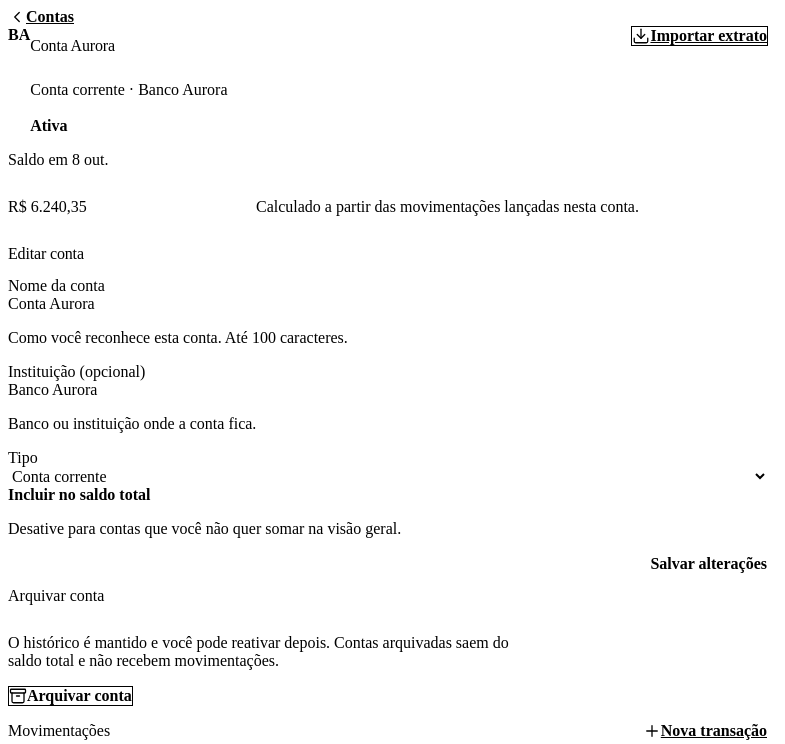
/accounts/{id} — detalhe e edição › arquiva a conta (reversível, histórico mantido)
Click the button "Arquivar conta" at (70,696), box [8,686,133,706]
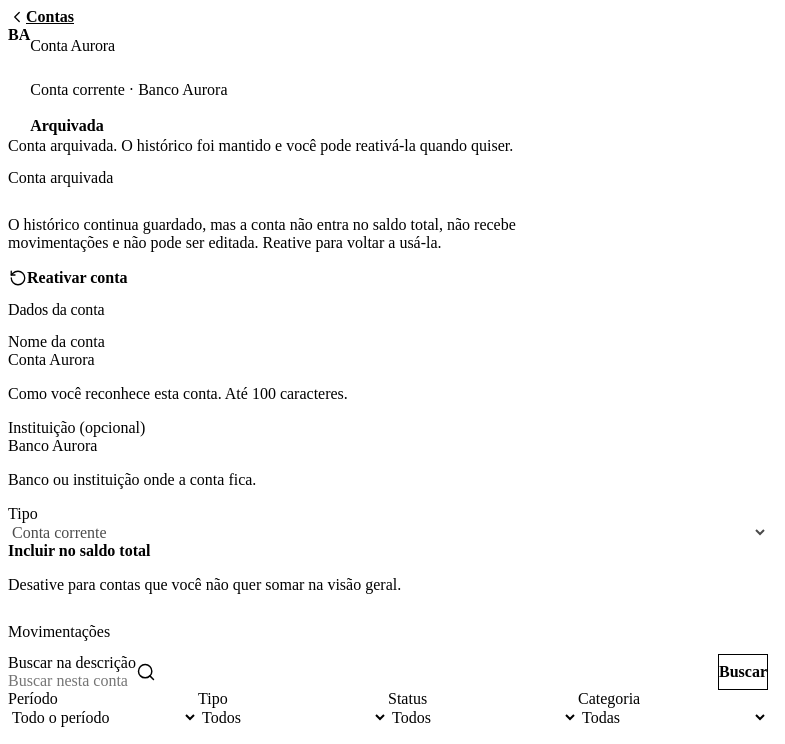
Check: the text "Conta arquivada. O histórico foi mantido e você pode reativá-la quando quiser." is shown, box [8,137,513,154]
Check: the button "Reativar conta" is shown, box [8,268,129,288]
